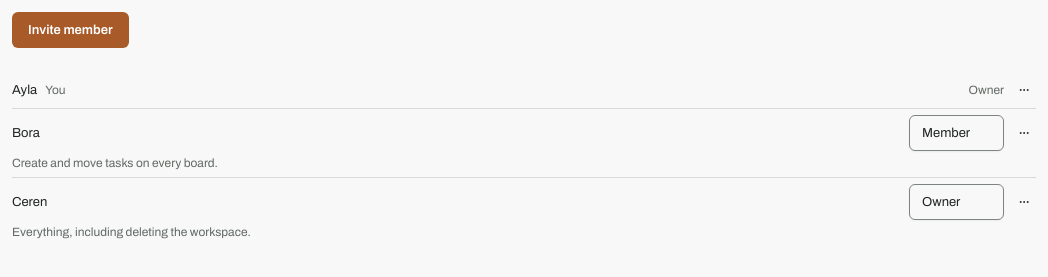
Test: MembersSettings — changing a role › turns the last-OWNER 409 into the move that would make it work, and reverts the select
Expected: the text "Ceren" is shown, [12, 193, 47, 211]
Select "Member" in the dropdown named "Role for Ceren" at (956, 202), box [909, 184, 1004, 220]
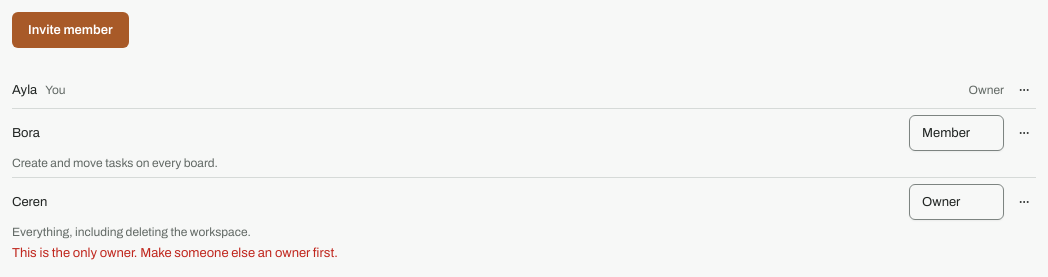
Now the text "This is the only owner. Make someone else an owner first." is shown, box [12, 246, 338, 260]
